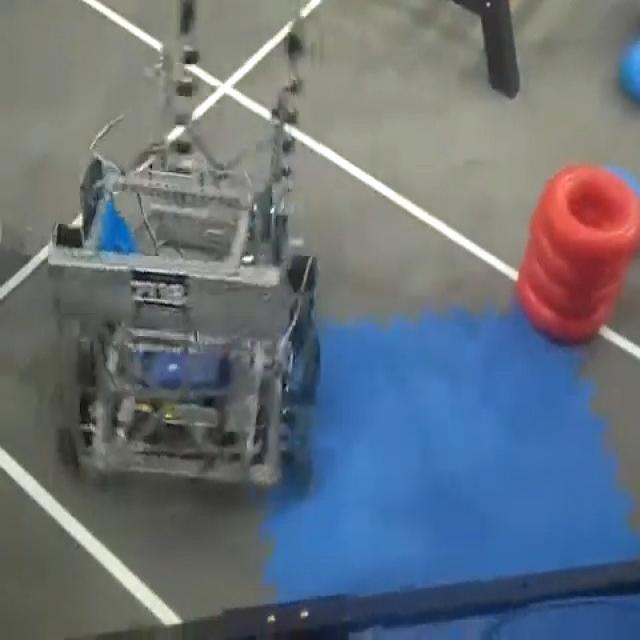Red-Ring: (532, 165, 640, 260), (519, 253, 620, 316), (528, 227, 630, 288), (518, 280, 604, 342)
